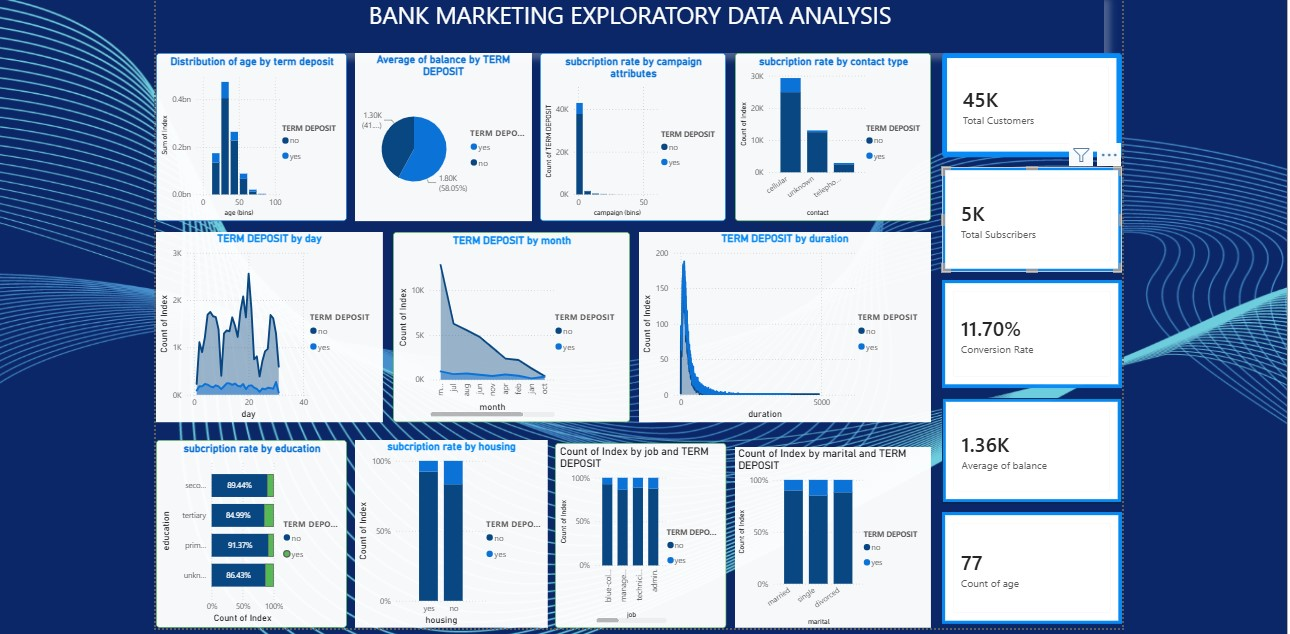

What the dashboard file says about the page in this screenshot:
{"tool":"powerbi","page":{"name":"Page 1","canvas":[1528,1000],"ordinal":0},"visuals":[{"type":"textbox","box":[0,0,1500,89.7],"z":0},{"type":"columnChart","title":"Distribution of age by term deposit","fields":{"Y":["Sum(bank-full.Index)"],"Category":["bank-full.age (bins)"],"Series":["bank-full.TERM DEPOSIT"]},"box":[0,90.2,302.2,265.8],"z":1000},{"type":"pieChart","fields":{"Category":["bank-full.TERM DEPOSIT"],"Y":["Avg(bank-full.balance)"]},"box":[314.9,90.2,280.1,265.8],"z":2000},{"type":"columnChart","title":"subcription rate by campaign attributes","fields":{"Series":["bank-full.TERM DEPOSIT"],"Category":["bank-full.campaign (bins)"],"Y":["CountNonNull(bank-full.TERM DEPOSIT)"]},"box":[607.6,90.2,294.3,265.8],"z":3000},{"type":"columnChart","title":"subcription rate by contact type","fields":{"Series":["bank-full.TERM DEPOSIT"],"Category":["bank-full.contact"],"Y":["Count(bank-full.Index)"]},"box":[916.1,90.2,310.1,265.8],"z":4000},{"type":"areaChart","title":"TERM DEPOSIT by day","fields":{"Category":["bank-full.day"],"Y":["Count(bank-full.Index)"],"Series":["bank-full.TERM DEPOSIT"]},"box":[0,373.4,359.2,300.6],"z":5000},{"type":"areaChart","title":"TERM DEPOSIT by month","fields":{"Y":["Count(bank-full.Index)"],"Series":["bank-full.TERM DEPOSIT"],"Category":["bank-full.month"]},"box":[375,373.4,375,300.6],"z":6000},{"type":"stackedAreaChart","title":" TERM DEPOSIT by duration","fields":{"Category":["bank-full.duration"],"Y":["Count(bank-full.Index)"],"Series":["bank-full.TERM DEPOSIT"]},"box":[764.2,373.4,462,300.6],"z":7000},{"type":"hundredPercentStackedBarChart","title":"subcription rate by education","fields":{"Series":["bank-full.TERM DEPOSIT"],"Y":["Count(bank-full.Index)"],"Category":["bank-full.education"]},"box":[0,702.5,302.2,297.5],"z":8000},{"type":"hundredPercentStackedColumnChart","title":"subcription rate by housing","fields":{"Category":["bank-full.housing"],"Y":["Count(bank-full.Index)"],"Series":["bank-full.TERM DEPOSIT"]},"box":[314.9,702.5,305.4,297.5],"z":9000},{"type":"hundredPercentStackedColumnChart","fields":{"Category":["bank-full.job"],"Y":["Count(bank-full.Index)"],"Series":["bank-full.TERM DEPOSIT"]},"box":[631.3,707.3,270.6,292.7],"z":10000},{"type":"hundredPercentStackedColumnChart","fields":{"Category":["bank-full.marital"],"Y":["Count(bank-full.Index)"],"Series":["bank-full.TERM DEPOSIT"]},"box":[916.1,713.6,310.1,286.4],"z":11000},{"type":"cardVisual","fields":{"Data":["Table.Total Customers"]},"box":[1243.7,90.2,284.8,164.6],"z":12000},{"type":"cardVisual","fields":{"Data":["Table.Total Subscribers"]},"box":[1243.7,270.6,284.8,166.1],"z":13000},{"type":"cardVisual","fields":{"Data":["Table.Conversion Rate"]},"box":[1243.7,449.4,284.8,170.9],"z":14000},{"type":"cardVisual","fields":{"Data":["Avg(bank-full.balance)"]},"box":[1243.7,636.1,284.8,166.1],"z":15000},{"type":"cardVisual","fields":{"Data":["Count(bank-full.age)"]},"box":[1243.7,816.5,284.8,177.2],"z":16000}]}

Visuals, with their boxes in screenshot pixels (x1, y1, x2, y2):
textbox: pyautogui.locateOnScreen(155, 0, 1094, 53)
"Distribution of age by term deposit" columnChart: pyautogui.locateOnScreen(155, 53, 344, 220)
pieChart - bank-full.TERM DEPOSIT x Avg(bank-full.balance): pyautogui.locateOnScreen(352, 53, 527, 220)
"subcription rate by campaign attributes" columnChart: pyautogui.locateOnScreen(535, 53, 719, 220)
"subcription rate by contact type" columnChart: pyautogui.locateOnScreen(728, 53, 922, 220)
"TERM DEPOSIT by day" areaChart: pyautogui.locateOnScreen(155, 230, 379, 419)
"TERM DEPOSIT by month" areaChart: pyautogui.locateOnScreen(389, 230, 624, 419)
" TERM DEPOSIT by duration" stackedAreaChart: pyautogui.locateOnScreen(633, 230, 922, 419)
"subcription rate by education" hundredPercentStackedBarChart: pyautogui.locateOnScreen(155, 437, 344, 623)
"subcription rate by housing" hundredPercentStackedColumnChart: pyautogui.locateOnScreen(352, 437, 543, 623)
hundredPercentStackedColumnChart - bank-full.job x Count(bank-full.Index): pyautogui.locateOnScreen(550, 440, 719, 623)
hundredPercentStackedColumnChart - bank-full.marital x Count(bank-full.Index): pyautogui.locateOnScreen(728, 443, 922, 623)
cardVisual - Table.Total Customers: pyautogui.locateOnScreen(933, 53, 1112, 156)
cardVisual - Table.Total Subscribers: pyautogui.locateOnScreen(933, 166, 1112, 270)
cardVisual - Table.Conversion Rate: pyautogui.locateOnScreen(933, 278, 1112, 385)
cardVisual - Avg(bank-full.balance): pyautogui.locateOnScreen(933, 395, 1112, 499)
cardVisual - Count(bank-full.age): pyautogui.locateOnScreen(933, 508, 1112, 619)
